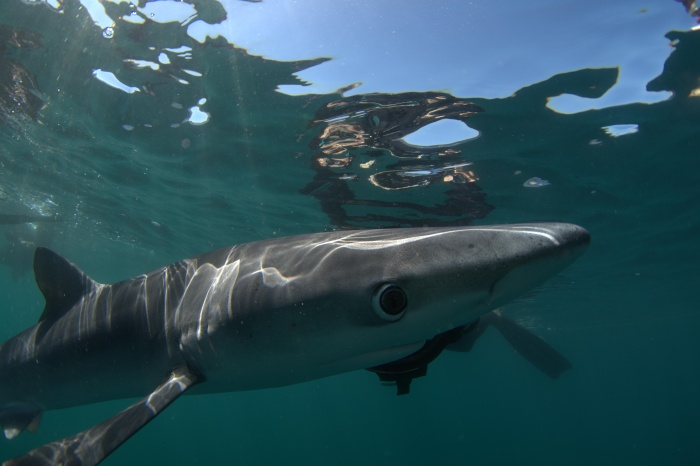Azul: (1, 174, 592, 463)
